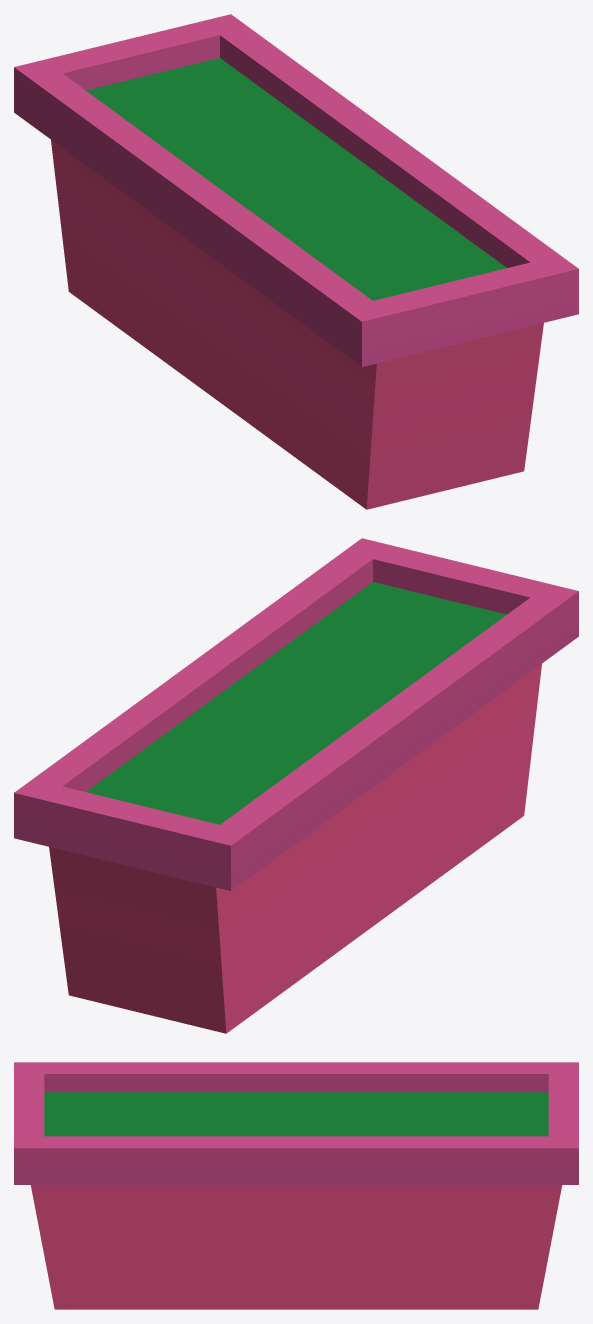
File: FlowerPot_5_2_D.fbx
3 renders of one model, top to bottom at view 1: azimuth 30°, elevation 25°; view 2: azimuth 150°, elevation 25°; view 3: azimuth 270°, elevation 25°, orthographic. The views are drawn at different scales.
Visible parts, largest first — view 1: FlowerPot_5_2_D; view 2: FlowerPot_5_2_D; view 3: FlowerPot_5_2_D.
Boxes of the visible parts, x1,y1,x2,y2 form: FlowerPot_5_2_D: (14, 14, 578, 509); FlowerPot_5_2_D: (14, 538, 578, 1033); FlowerPot_5_2_D: (14, 1062, 578, 1309).
Size of the model in its own units: 32.46 by 30.52 by 90.14.
